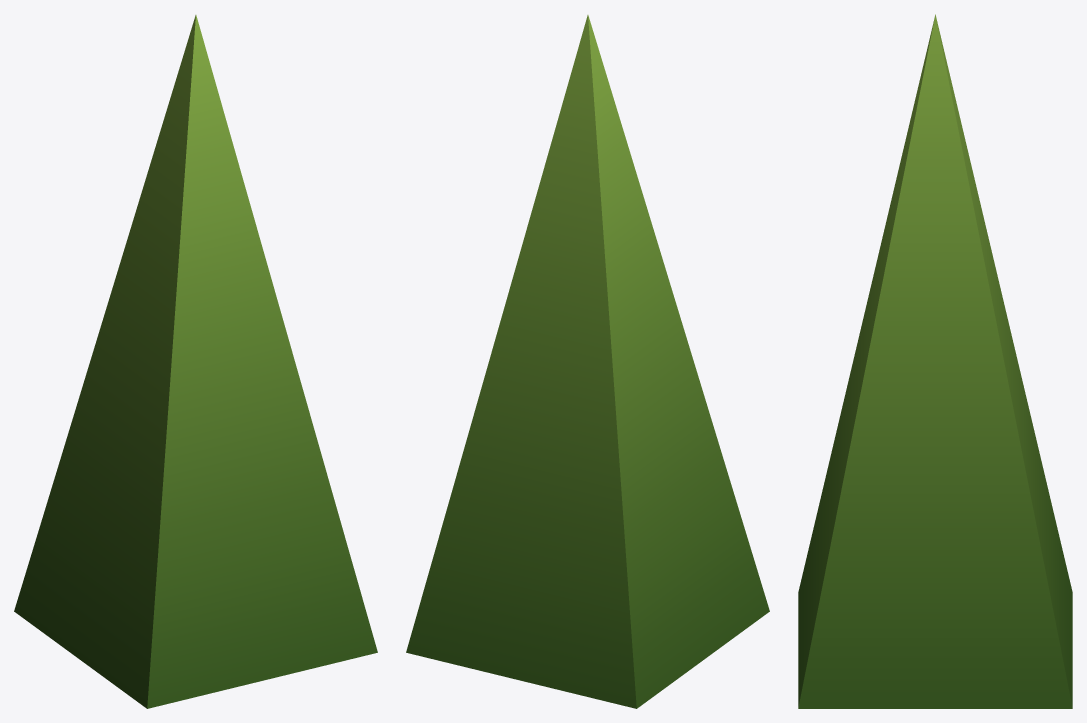
The model's file is tree 2.fbx.
3 renders of one model, left to right at view 1: azimuth 30°, elevation 25°; view 2: azimuth 150°, elevation 25°; view 3: azimuth 270°, elevation 25°, orthographic. The views are drawn at different scales.
Parts seen in each view (by area): view 1: tree_1; view 2: tree_1; view 3: tree_1.
Boxes of the visible parts, box(x1,y1,x2,y2) form: tree_1: box(14, 15, 377, 708); tree_1: box(406, 15, 769, 708); tree_1: box(798, 14, 1072, 708).
Size of the model in its own units: 235 by 602 by 235.
Materials: 1 (1 with a texture image).
